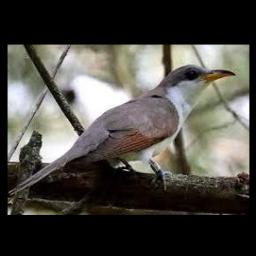Cuckoo: (9, 64, 234, 195)
